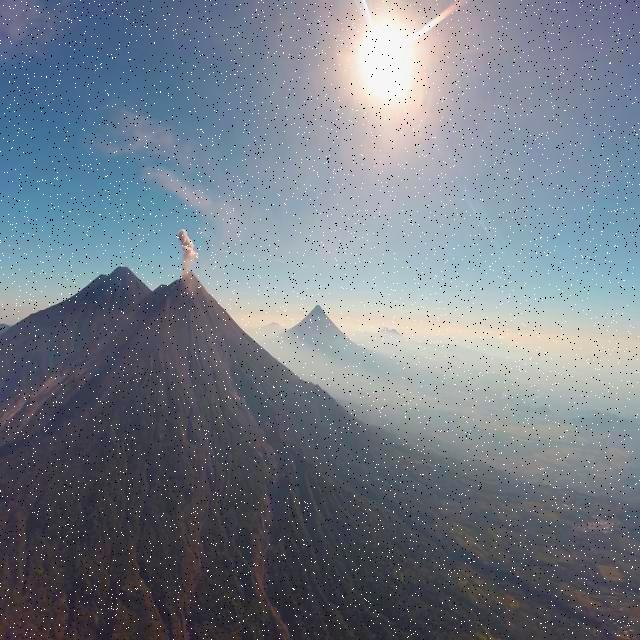Plume: (178, 228, 200, 272)
Summit: (168, 268, 212, 295)
